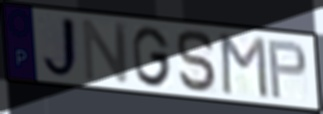G: (130, 24, 174, 89)
J: (40, 14, 83, 81)
M: (219, 32, 271, 101)
N: (80, 17, 131, 84)
P: (266, 39, 310, 101)
S: (175, 28, 220, 95)
